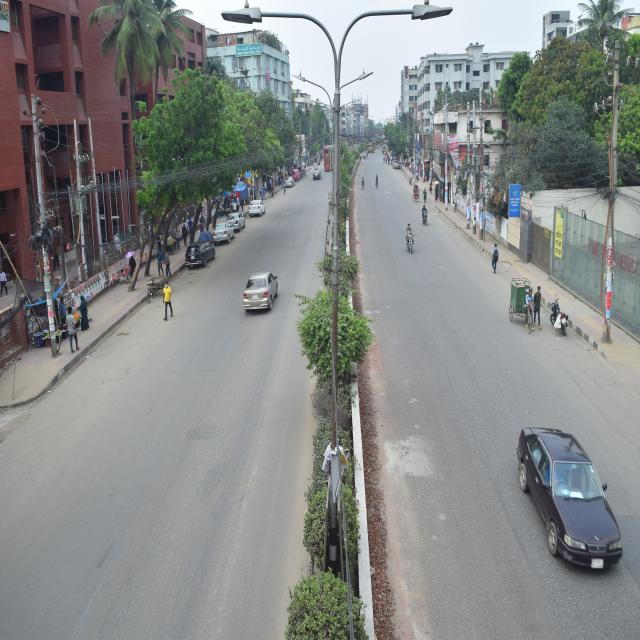bus: (322, 140, 337, 176)
car: (238, 267, 283, 318), (180, 238, 214, 272), (212, 222, 236, 245), (246, 194, 267, 217), (227, 212, 247, 234), (283, 175, 296, 189), (312, 167, 323, 182), (390, 160, 400, 170)
motorbike: (402, 231, 416, 254), (421, 211, 430, 225)
truck: (366, 141, 377, 154)
